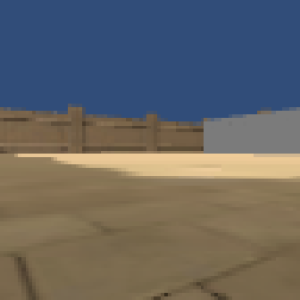wall: (205, 109, 300, 153)
